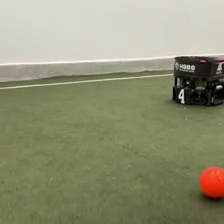ball: (197, 164, 224, 200)
robot: (171, 55, 224, 107)
